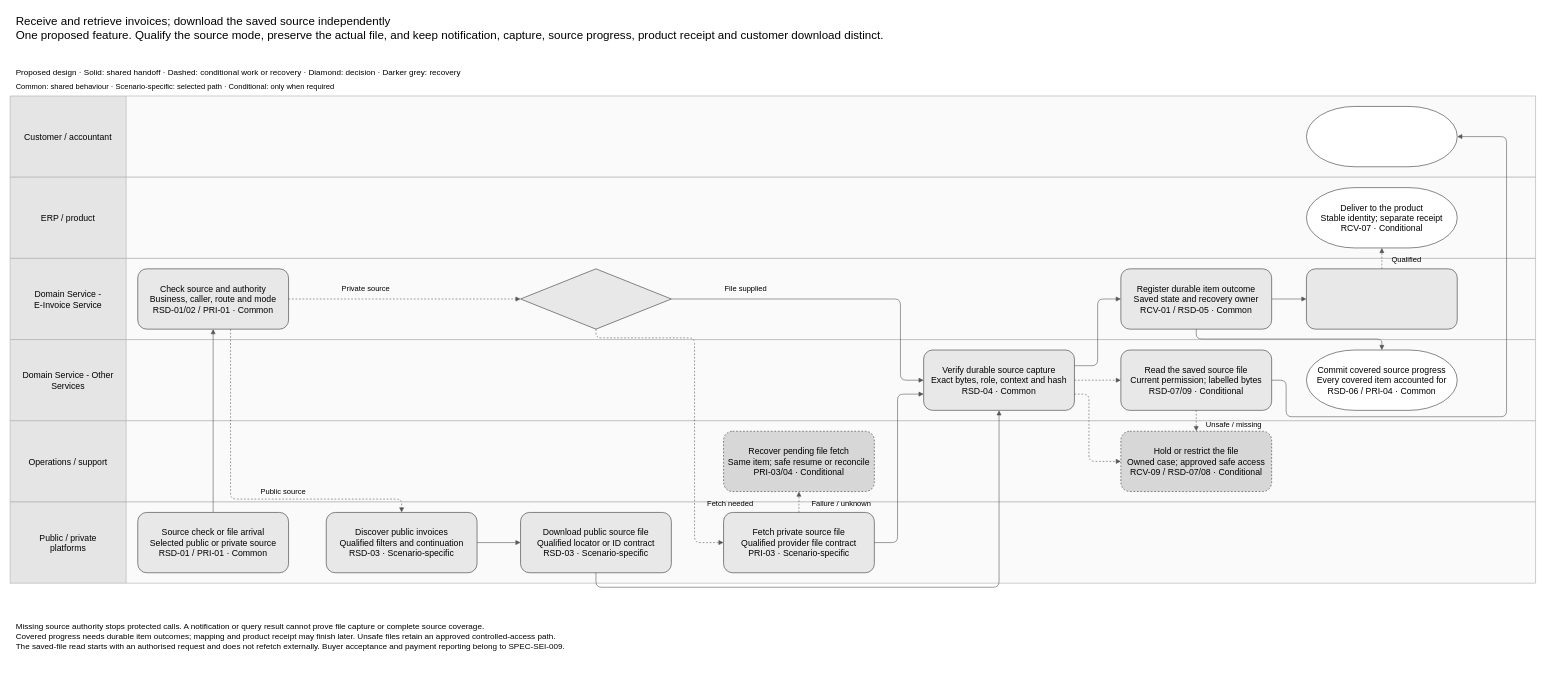
The diagram is 1552 pixels wide and 683 high, and some of its shapes have lost their labels. The centre of each missing label's shape, as x and y in pixels:
Check, map and publish once One business invoice and delivery RCV-02–09 · Common: pixel 1381 298
Full file supplied? PRI-02 · Scenario-specific: pixel 595 298
Receive the downloaded file Separate from product delivery RSD-07 · Conditional: pixel 1381 136
